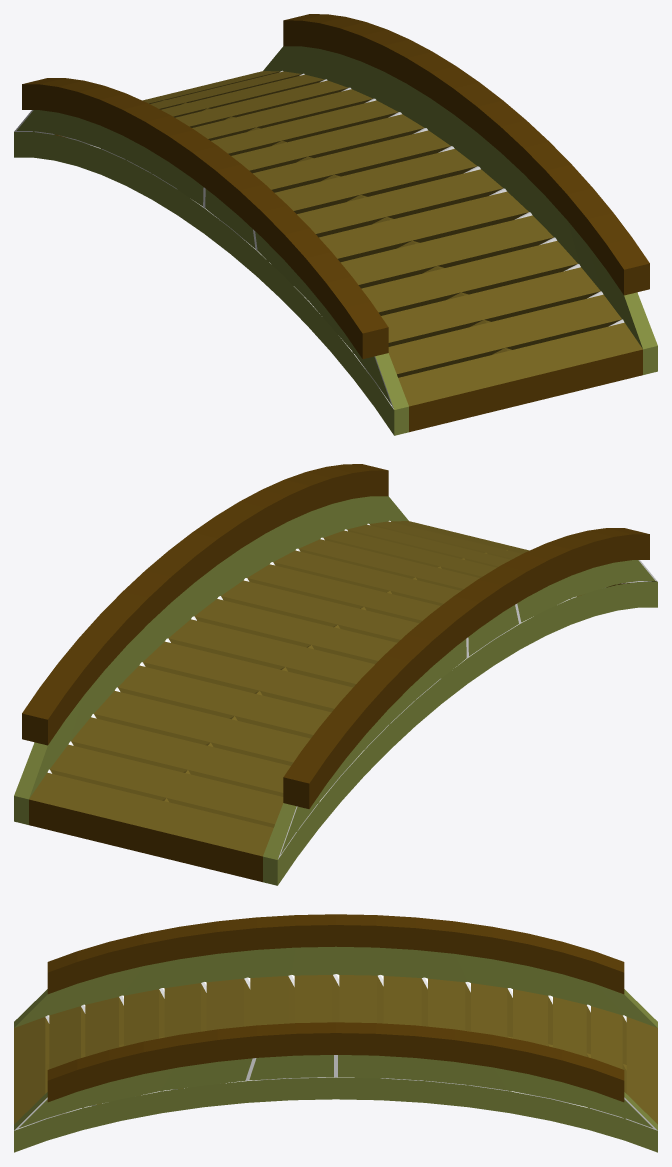
File: bridge.glb
The picture shows the model from 3 angles, top to bottom: view 1: azimuth 30°, elevation 25°; view 2: azimuth 150°, elevation 25°; view 3: azimuth 270°, elevation 25°; orthographic projection. The views are drawn at different scales.
Visible parts, largest first — view 1: Cube.001; view 2: Cube.001; view 3: Cube.001.
Boxes of the visible parts, x1,y1,x2,y2 form: Cube.001: (14, 14, 657, 435); Cube.001: (14, 464, 657, 885); Cube.001: (14, 914, 657, 1152).
Bounding box in the file's own units: 2.98 × 1.46 × 6.83.
